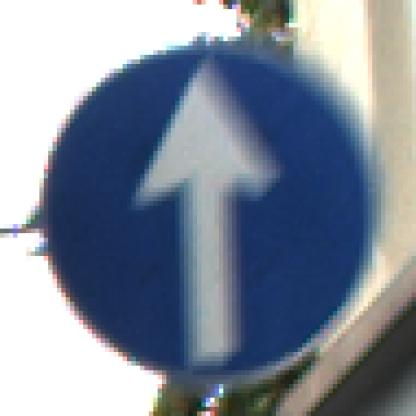AheadOnly: (40, 38, 382, 381)
